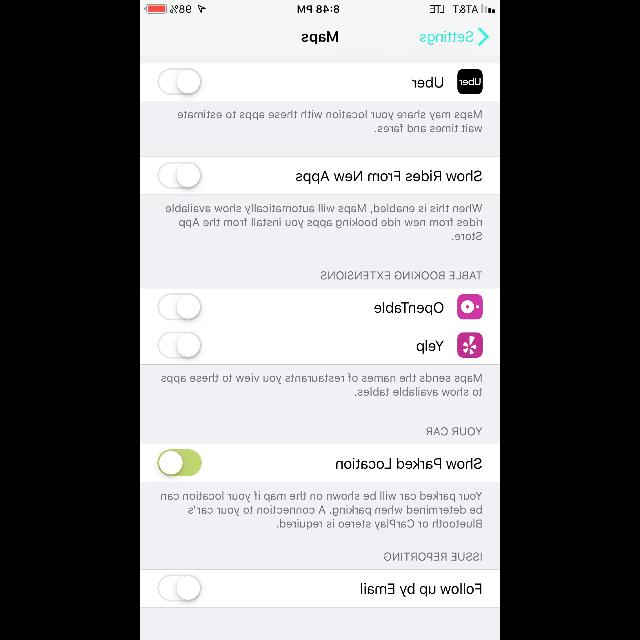icon: (478, 28, 488, 46)
image: (458, 294, 482, 320), (458, 332, 482, 358), (458, 70, 482, 94)
switch: (158, 574, 202, 602), (158, 162, 202, 190), (158, 449, 202, 476), (158, 68, 202, 95), (158, 332, 202, 358), (158, 294, 202, 320)
text: (160, 492, 482, 530), (166, 203, 482, 240), (162, 374, 482, 396), (178, 110, 482, 132), (296, 170, 482, 184), (336, 458, 482, 468), (361, 584, 481, 596), (320, 272, 482, 280), (374, 302, 444, 316), (384, 553, 482, 561), (421, 31, 474, 45), (426, 427, 482, 435), (302, 32, 338, 44), (416, 341, 444, 354), (412, 76, 442, 88)
uppertaskbar: (140, 0, 500, 14)
